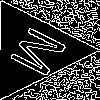M: (8, 25, 78, 84)
